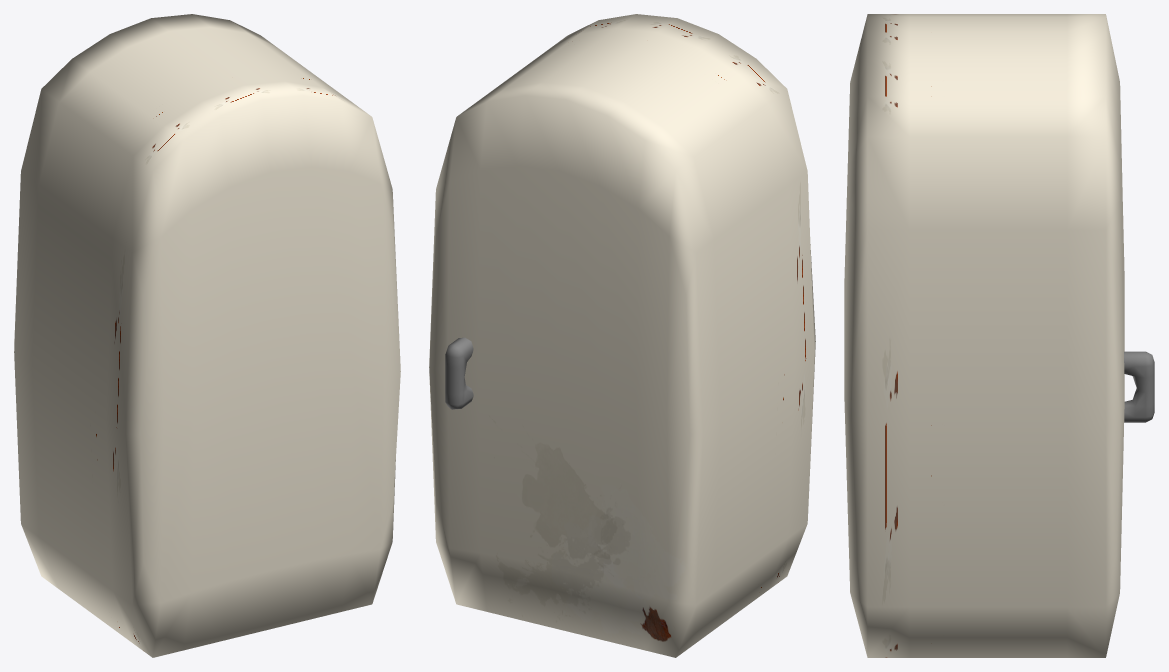
File: 2D_reizouko.fbx
3 renders of one model, left to right at view 1: azimuth 30°, elevation 25°; view 2: azimuth 150°, elevation 25°; view 3: azimuth 270°, elevation 25°, orthographic. The views are drawn at different scales.
Visible parts, largest first — view 1: pCube15; view 2: pCube15; view 3: pCube15.
Part boxes in pixels (x1,y1,x2,y2): pCube15: (14,14,400,657); pCube15: (429,14,815,657); pCube15: (844,14,1154,657).
Bounding box in the file's own units: 2.31 × 4.29 × 2.12.
